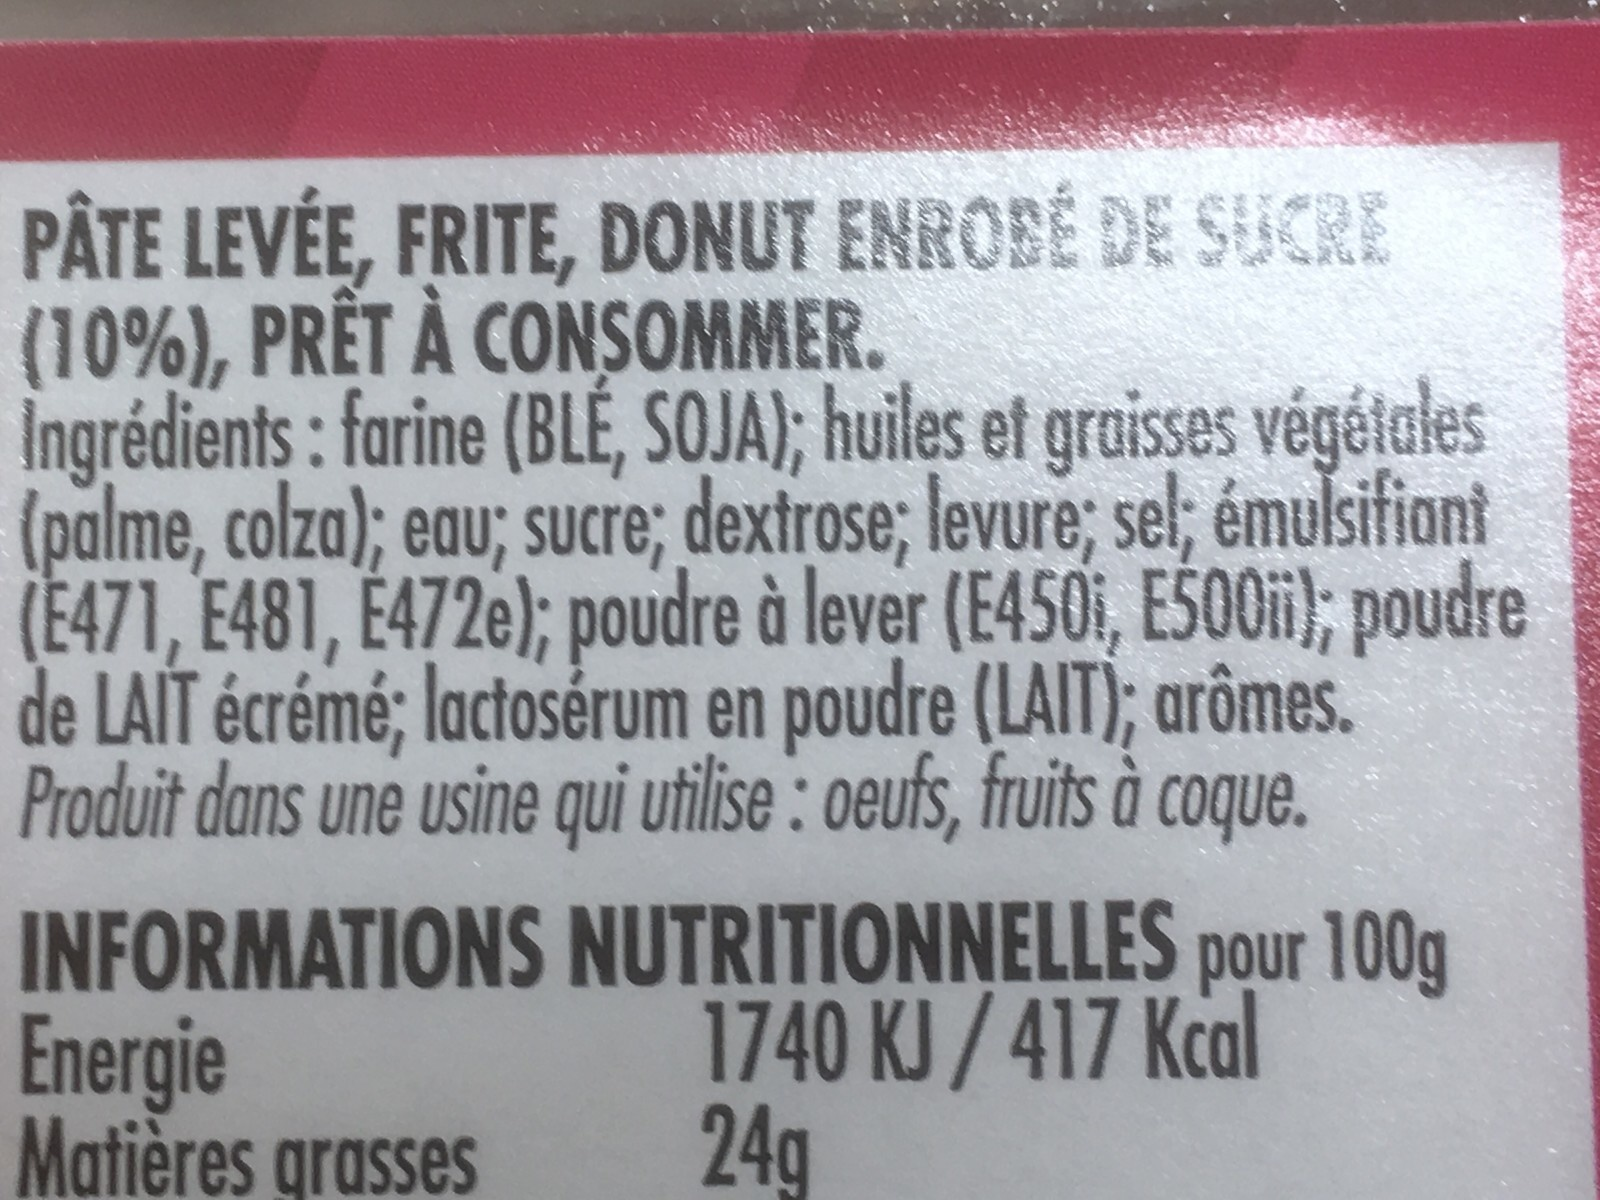ingredients: (1, 366, 1563, 746)
